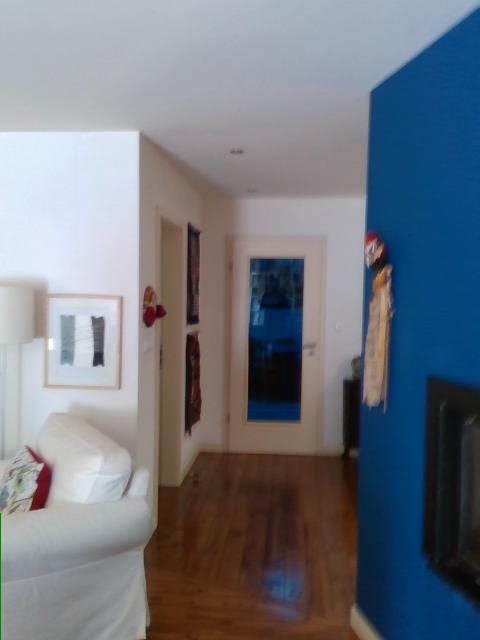door: (225, 237, 329, 452)
